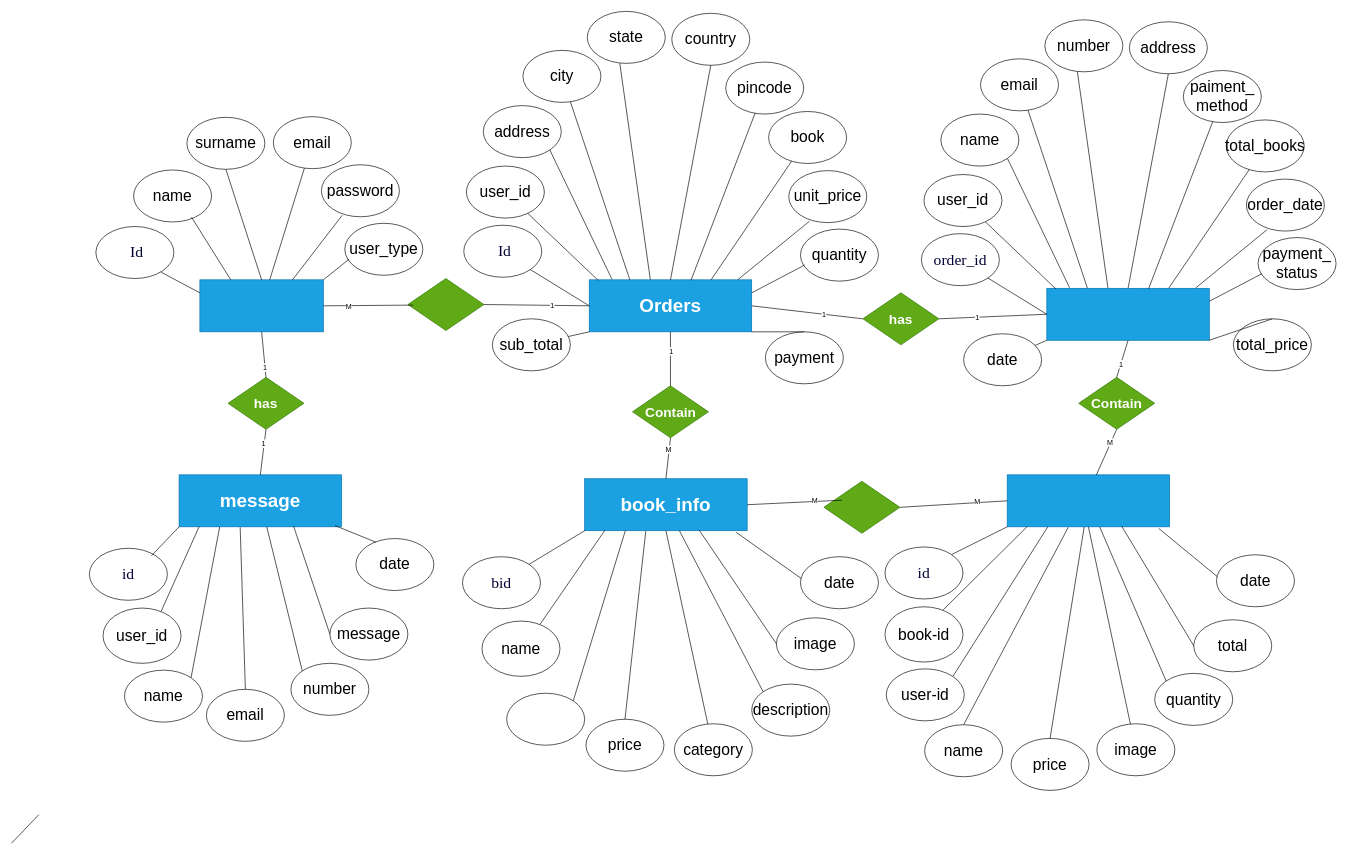
Image size: 1347x855. Some labels were removed from this diagram. The box of each missing label's shape, as (x1, y1, x2, y2) in pixels:
added to: (823, 481, 900, 533)
cart: (1007, 474, 1170, 527)
confirm_orders: (1046, 288, 1209, 340)
Makes: (407, 278, 484, 331)
title: (506, 693, 585, 745)
user_info: (199, 279, 323, 332)
